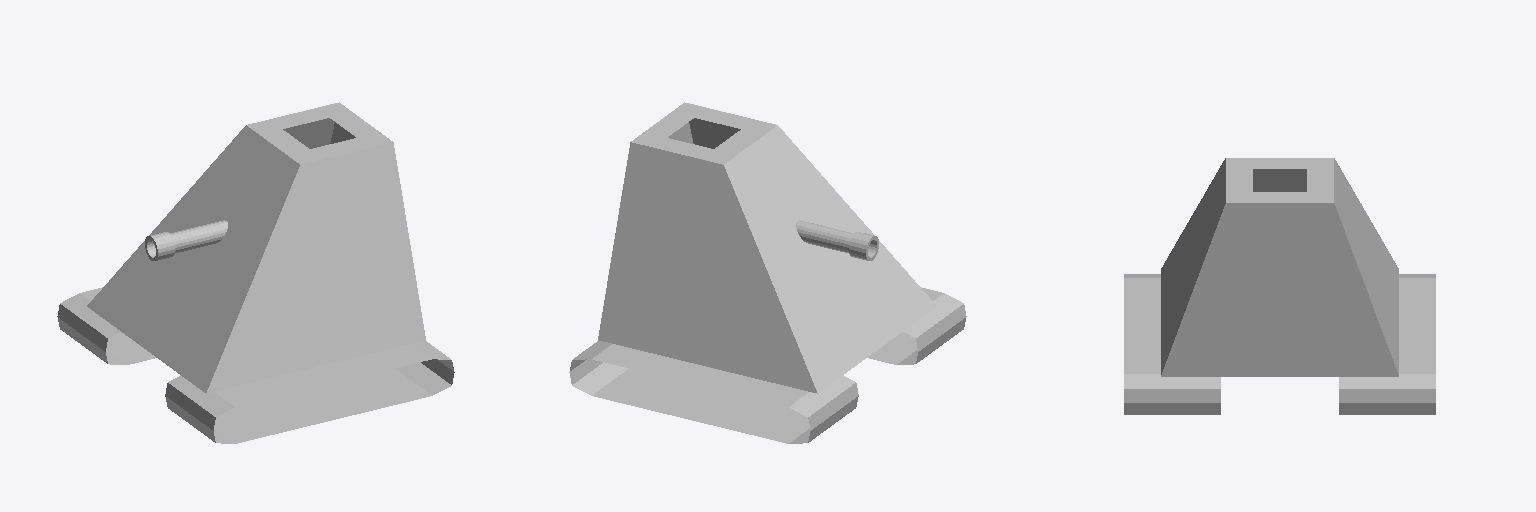
Rendered from Pitcher.obj.
The picture shows the model from 3 angles: view 1: azimuth 30°, elevation 25°; view 2: azimuth 150°, elevation 25°; view 3: azimuth 270°, elevation 25°; orthographic projection.
Parts seen in each view (by area): view 1: Tank; view 2: Tank; view 3: Tank.
Part boxes in pixels (bbox=[...]): Tank: bbox=[57, 102, 454, 443]; Tank: bbox=[569, 102, 966, 443]; Tank: bbox=[1124, 158, 1435, 414].
Bounding box in the file's own units: 14.98 × 12.69 × 16.8.